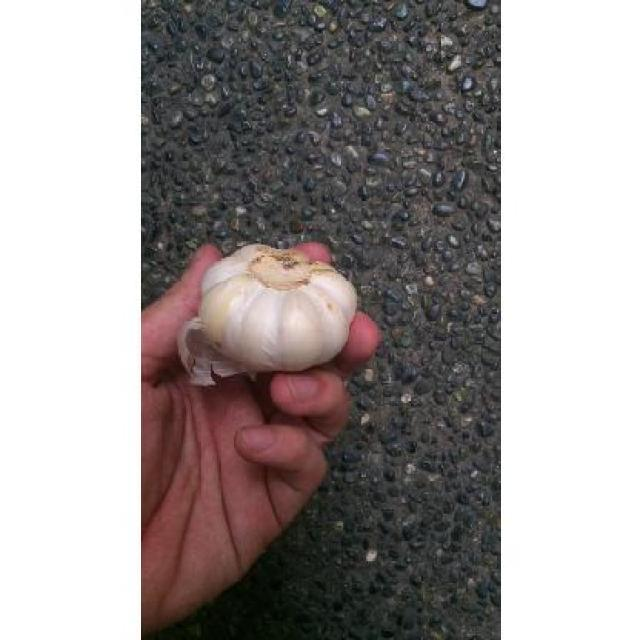Garlic: (191, 230, 369, 384)
